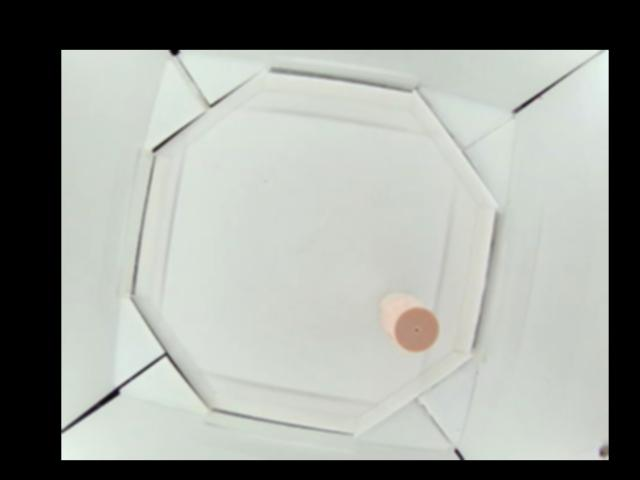Bottle: (379, 292, 439, 354)
